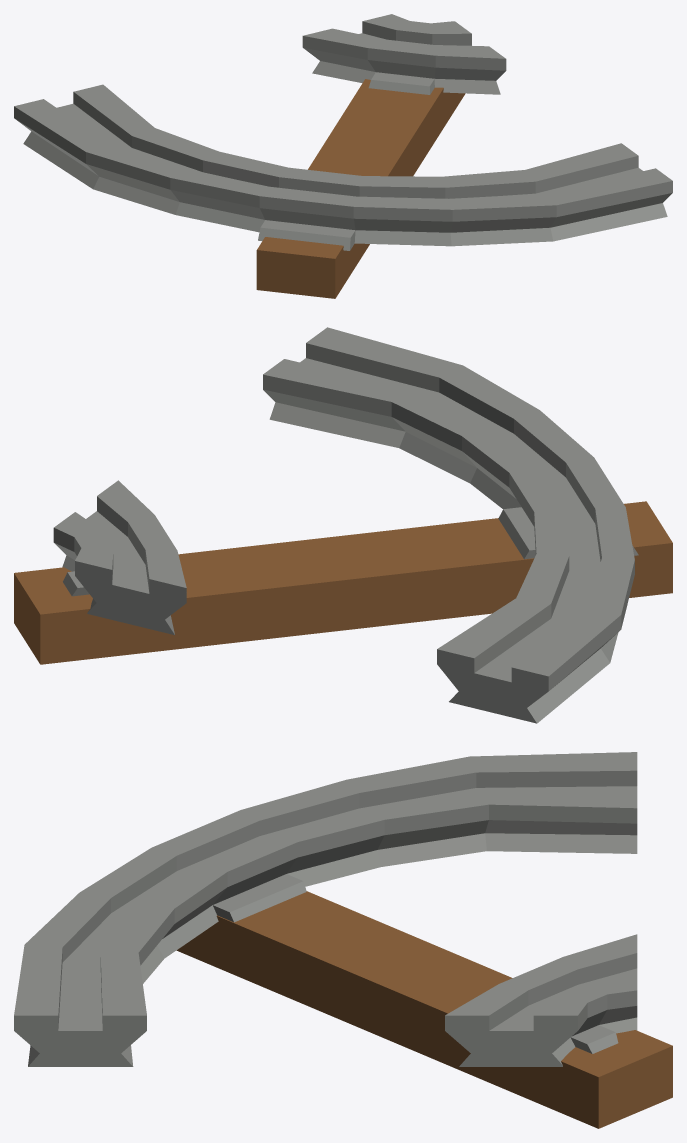
File: normal_curved_track.fbx
3 views of the same model, one above another, from view 1: azimuth 30°, elevation 25°; view 2: azimuth 150°, elevation 25°; view 3: azimuth 270°, elevation 25° (orthographic). The views are drawn at different scales.
Visible parts, largest first — view 1: Cube.021; view 2: Cube.021; view 3: Cube.021.
Part boxes in pixels (x1,y1,x2,y2): Cube.021: (14,14,672,298); Cube.021: (14,327,672,723); Cube.021: (14,752,672,1128).
Size of the model in its own units: 193 by 31.82 by 193.
